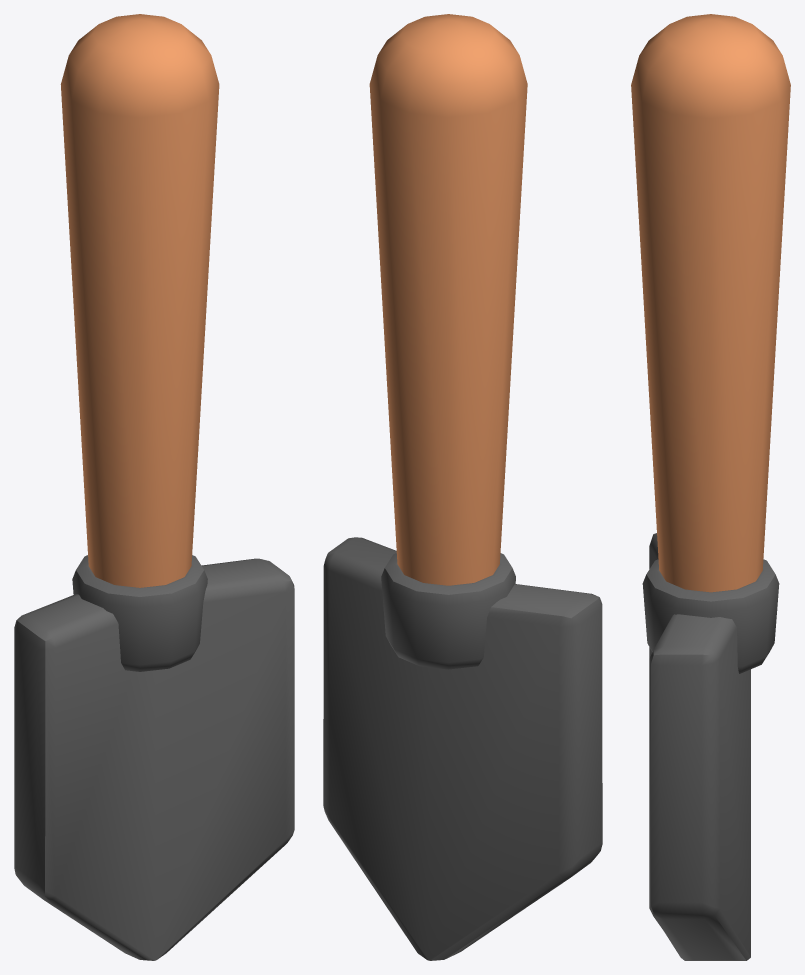
File: Showel.fbx
3 views of the same model, side by side, from view 1: azimuth 30°, elevation 25°; view 2: azimuth 150°, elevation 25°; view 3: azimuth 270°, elevation 25° (orthographic).
Parts seen in each view (by area): view 1: Showel; view 2: Showel; view 3: Showel.
Boxes of the visible parts, x1,y1,x2,y2 form: Showel: (14, 14, 294, 960); Showel: (323, 14, 602, 960); Showel: (631, 14, 790, 960).
Size of the model in its own units: 46.41 by 159 by 24.76.
